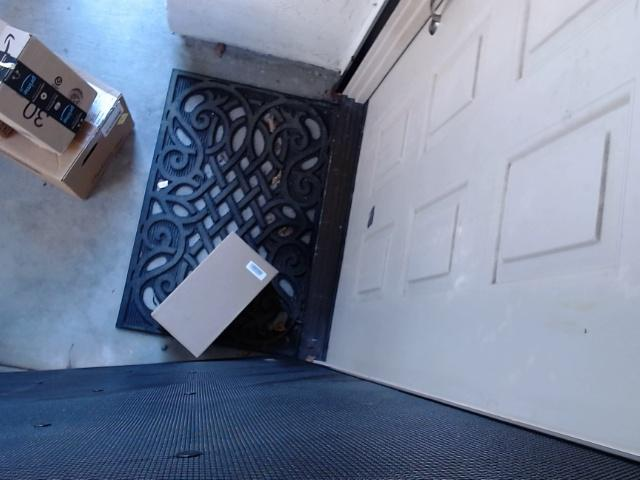box: (0, 11, 155, 192), (146, 225, 301, 357), (0, 25, 105, 146)
